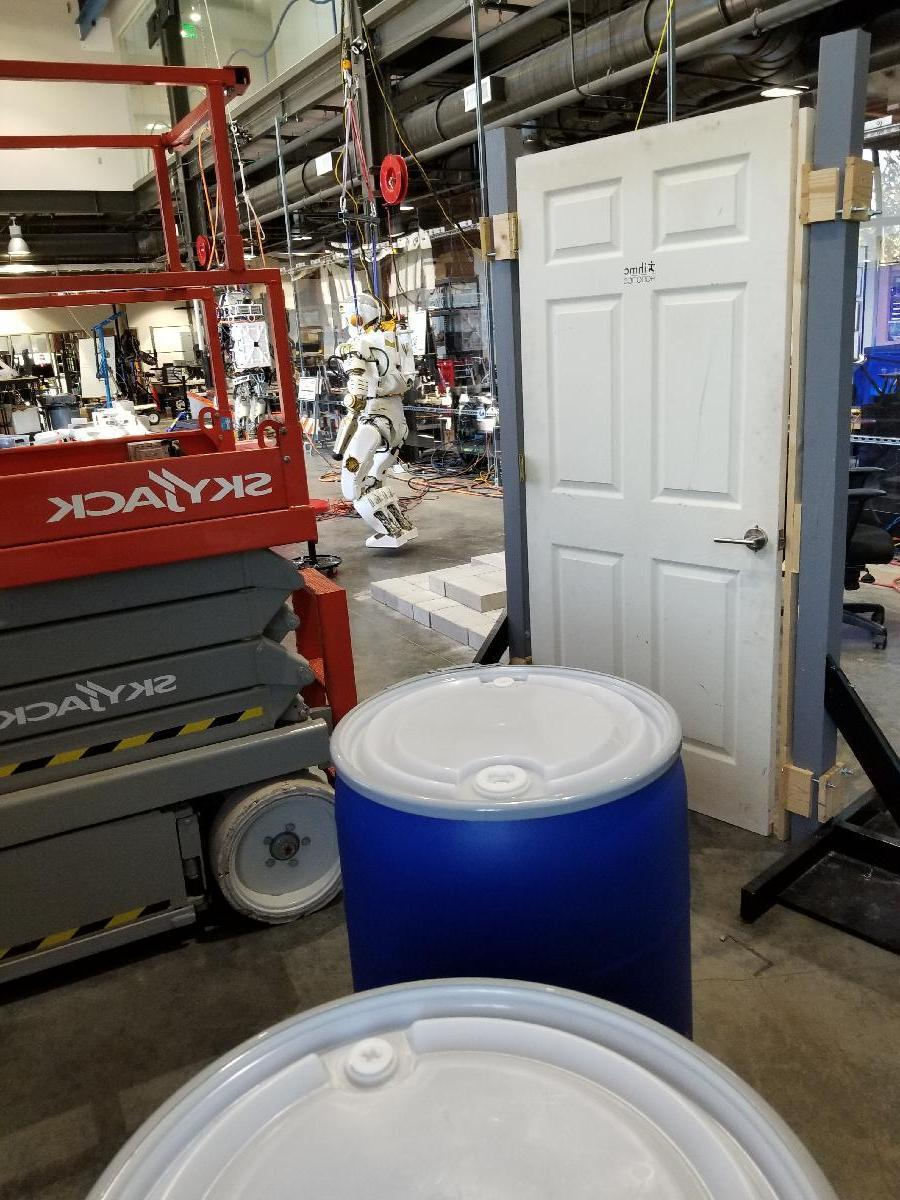door: (516, 98, 789, 827)
handle: (711, 524, 772, 556)
